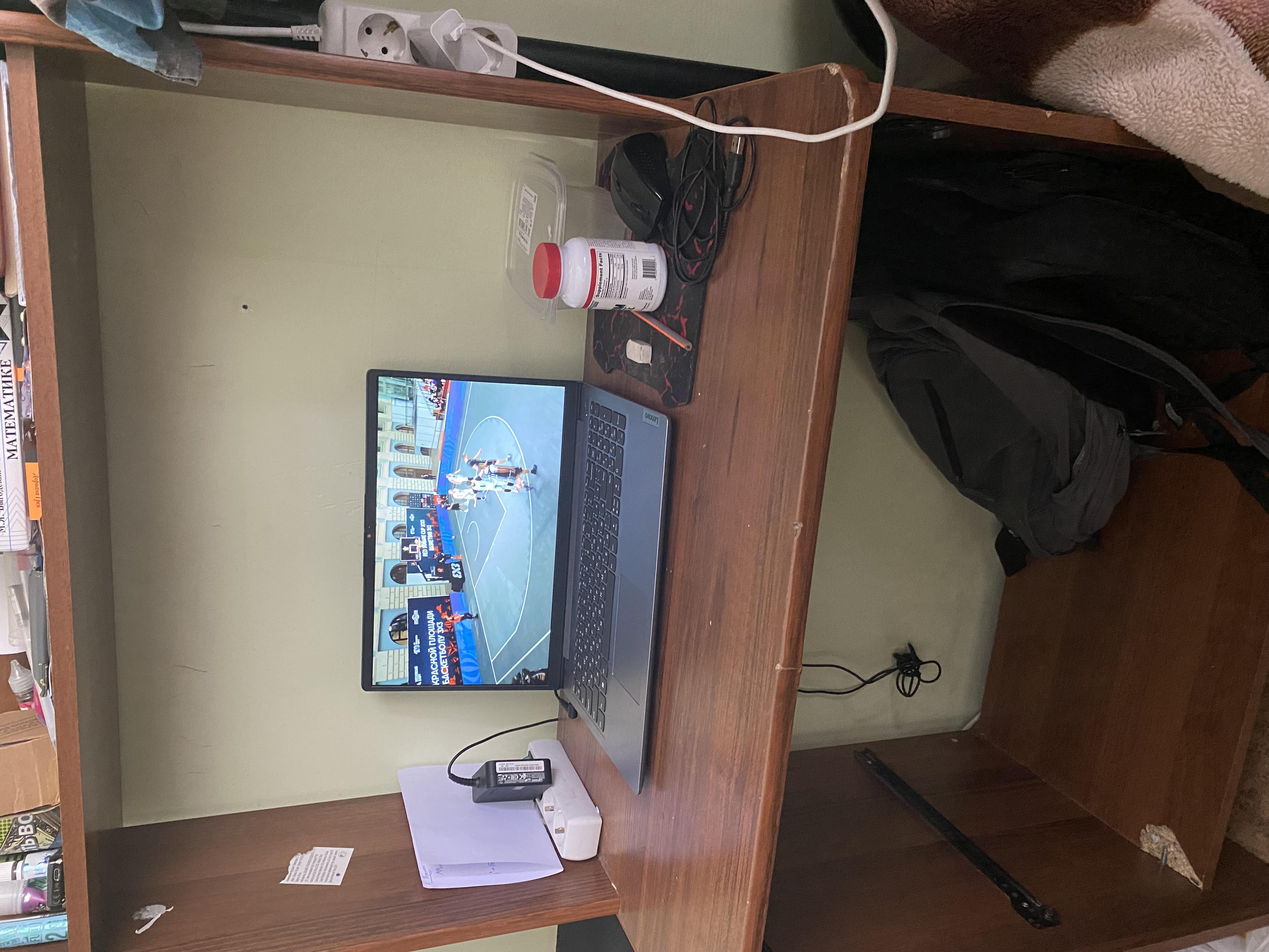monitor: (325, 261, 793, 442)
